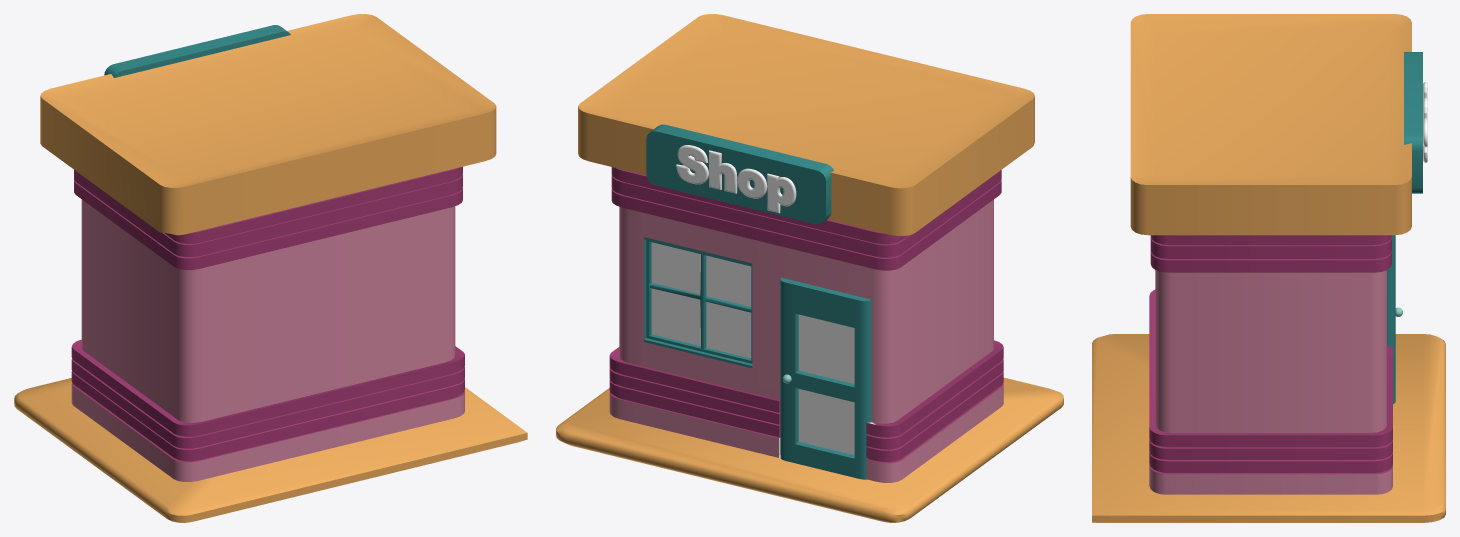
Rendered from Model2modify.fbx.
3 views of the same model, side by side, from view 1: azimuth 30°, elevation 25°; view 2: azimuth 150°, elevation 25°; view 3: azimuth 270°, elevation 25° (orthographic). The views are drawn at different scales.
Visible parts, largest first — view 1: Cube.001; view 2: Cube.001; view 3: Cube.001.
Boxes of the visible parts, left/top/right/bottom form: Cube.001: left=14, top=14, right=527, bottom=522; Cube.001: left=556, top=14, right=1063, bottom=522; Cube.001: left=1092, top=14, right=1445, bottom=522.
Bounding box in the file's own units: 596 × 527 × 495.
